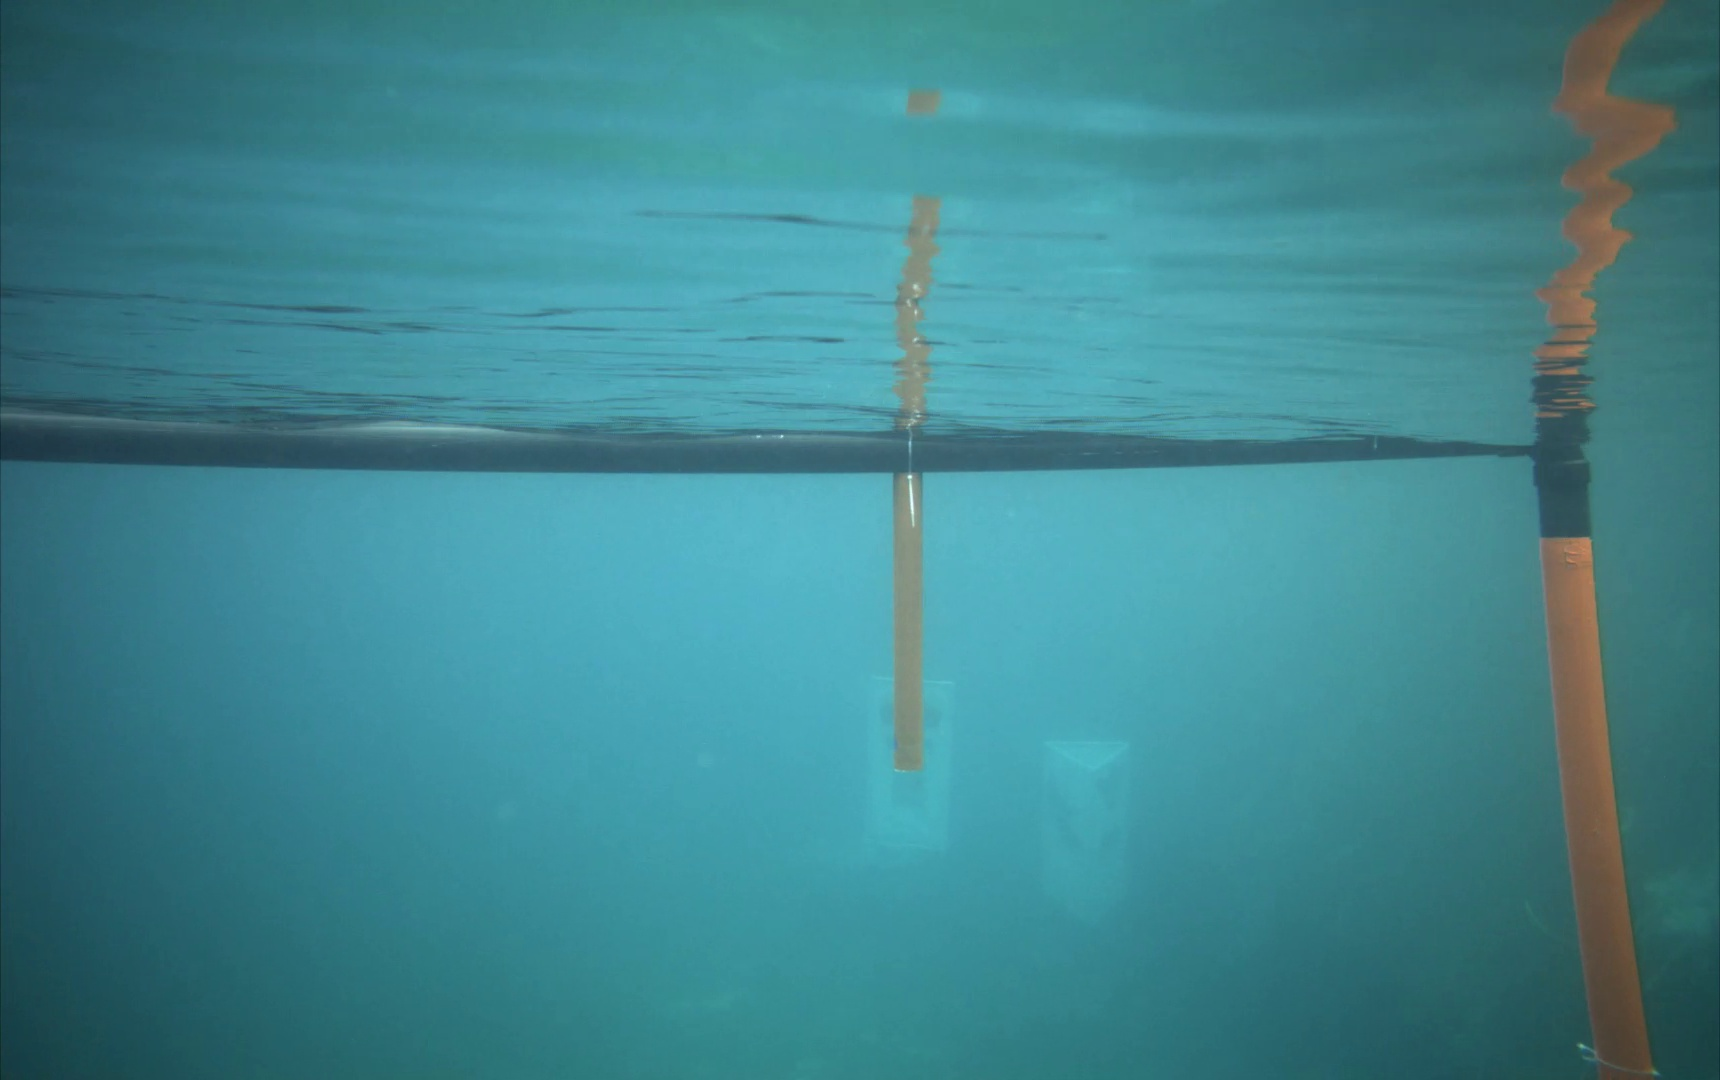start_gate: (1, 384, 1671, 1080)
start_tick: (871, 416, 950, 800)
